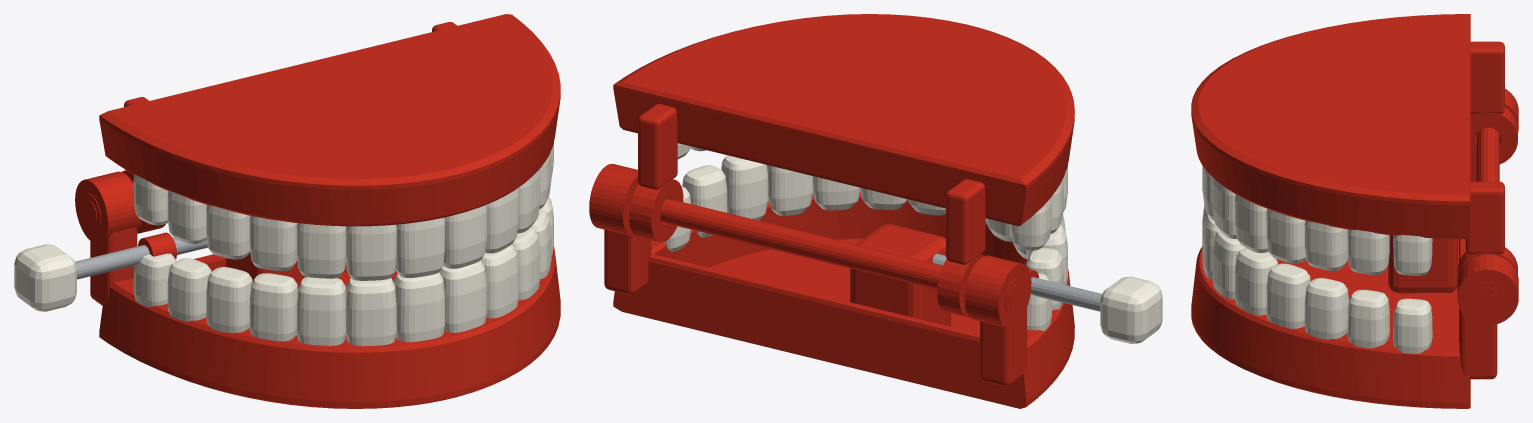
File: NEW567_chattering_teeth_LOD1_v006.glb
3 views of the same model, side by side, from view 1: azimuth 30°, elevation 25°; view 2: azimuth 150°, elevation 25°; view 3: azimuth 270°, elevation 25° (orthographic). The views are drawn at different scales.
Visible parts, largest first — view 1: Moving_upper_jaw_hinge_ears, Fixed_lower_jaw_knob_and_axle; view 2: Fixed_lower_jaw_knob_and_axle, Moving_upper_jaw_hinge_ears; view 3: Moving_upper_jaw_hinge_ears, Fixed_lower_jaw_knob_and_axle.
Boxes of the visible parts, left/top/right/bottom form: Moving_upper_jaw_hinge_ears: left=99, top=14, right=560, bottom=280; Fixed_lower_jaw_knob_and_axle: left=14, top=171, right=560, bottom=408; Fixed_lower_jaw_knob_and_axle: left=589, top=155, right=1162, bottom=408; Moving_upper_jaw_hinge_ears: left=613, top=14, right=1074, bottom=317; Moving_upper_jaw_hinge_ears: left=1191, top=14, right=1517, bottom=275; Fixed_lower_jaw_knob_and_axle: left=1191, top=88, right=1518, bottom=408.
Bounding box in the file's own units: 0.0793 × 0.0338 × 0.0469.
